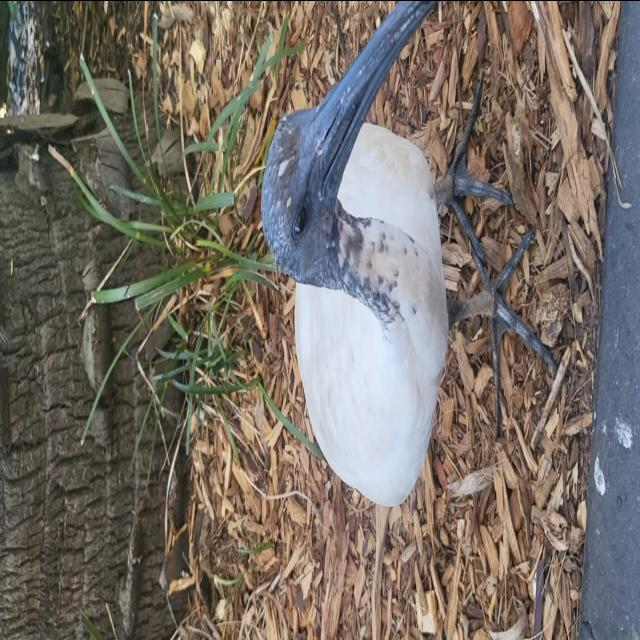Birds-Ibis: (255, 0, 564, 524)
